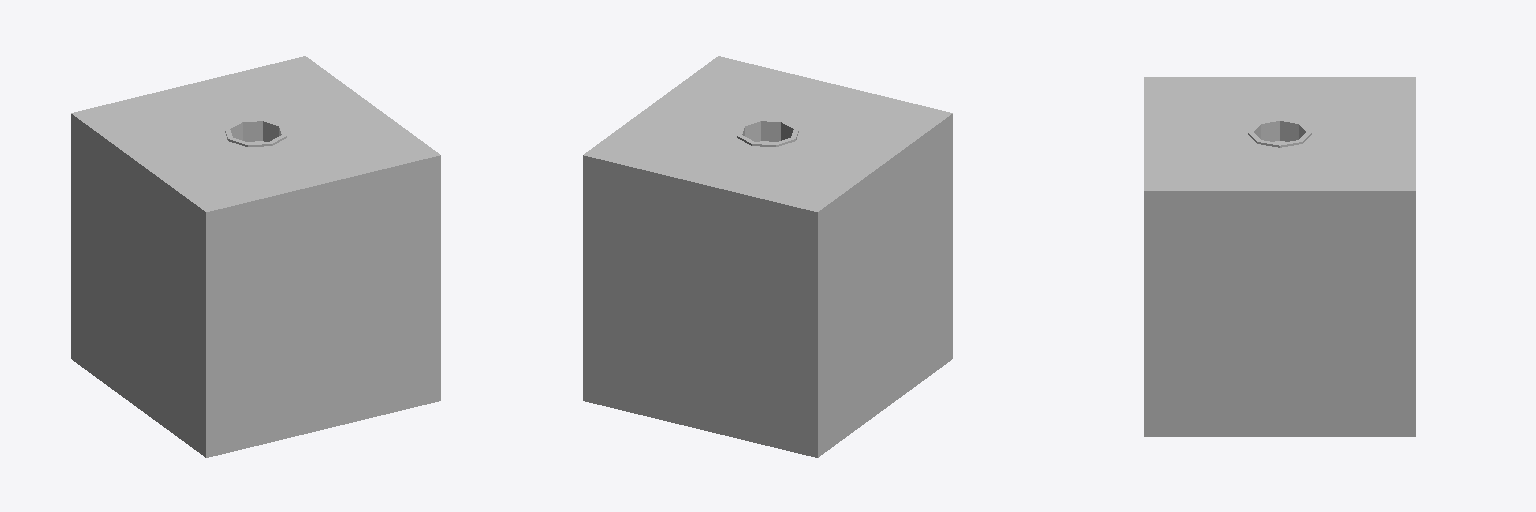
Rendered from rod_a.obj.
3 views of the same model, side by side, from view 1: azimuth 30°, elevation 25°; view 2: azimuth 150°, elevation 25°; view 3: azimuth 270°, elevation 25° (orthographic).
Visible parts, largest first — view 1: rod_a; view 2: rod_a; view 3: rod_a.
Boxes of the visible parts, box(x1,y1,x2,y2) form: rod_a: box(71, 56, 440, 457); rod_a: box(583, 56, 952, 457); rod_a: box(1144, 77, 1415, 436).
Bounding box in the file's own units: 0.9703 × 0.9787 × 0.9703.